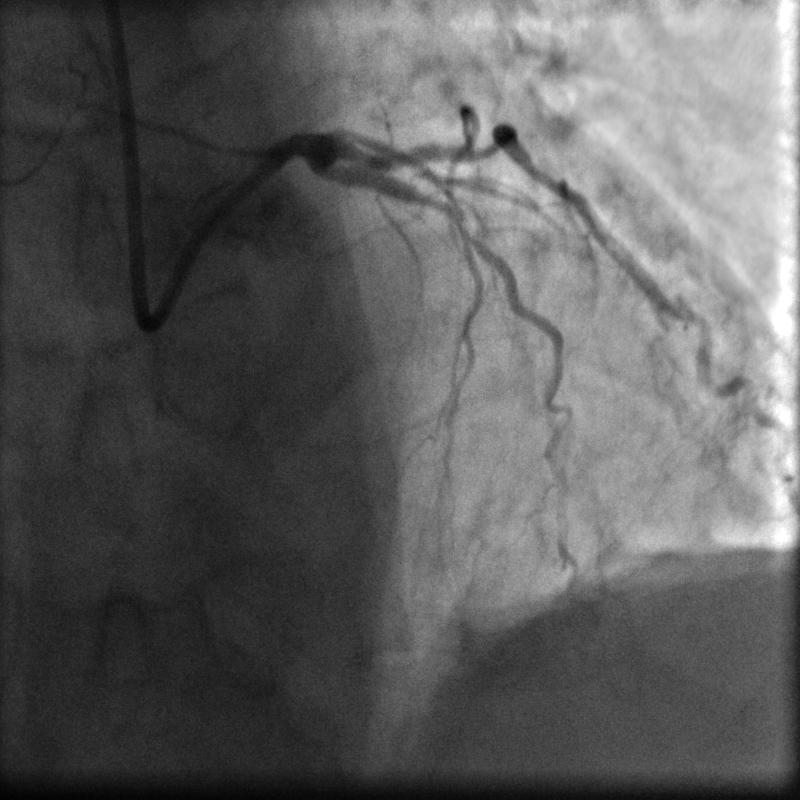Stenosis: (412, 177, 470, 231)
